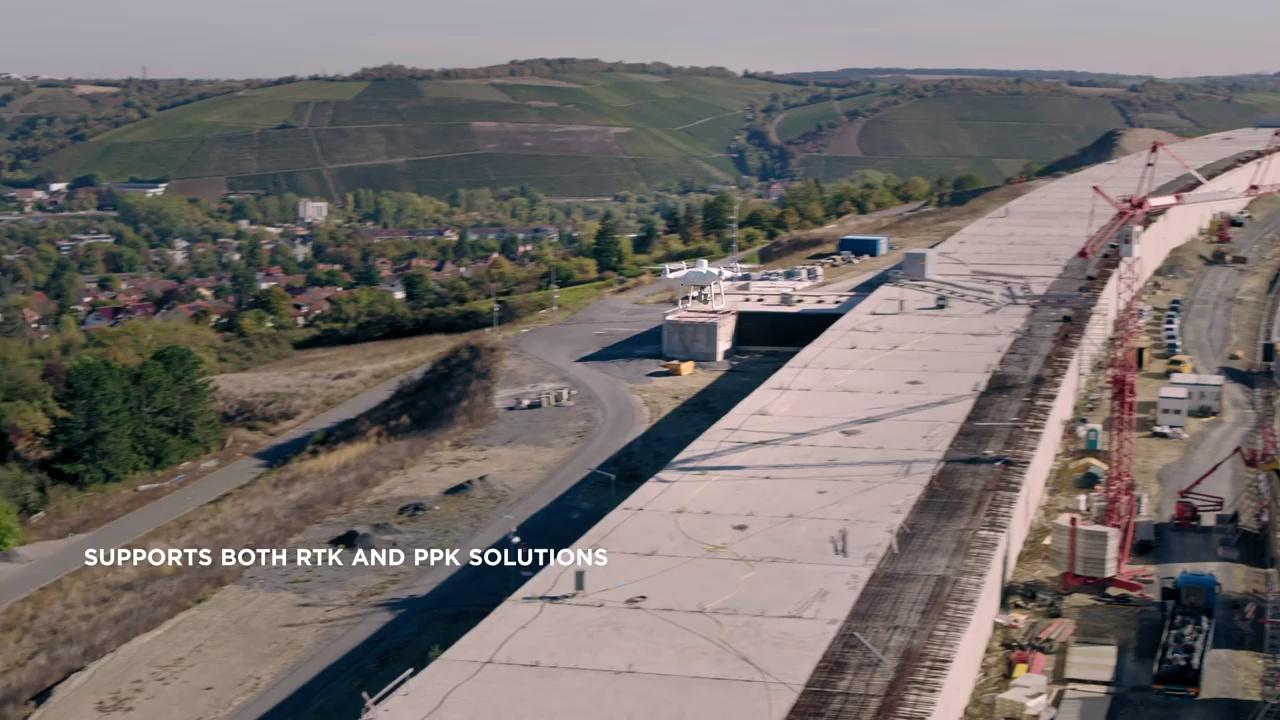drone: (642, 256, 764, 311)
